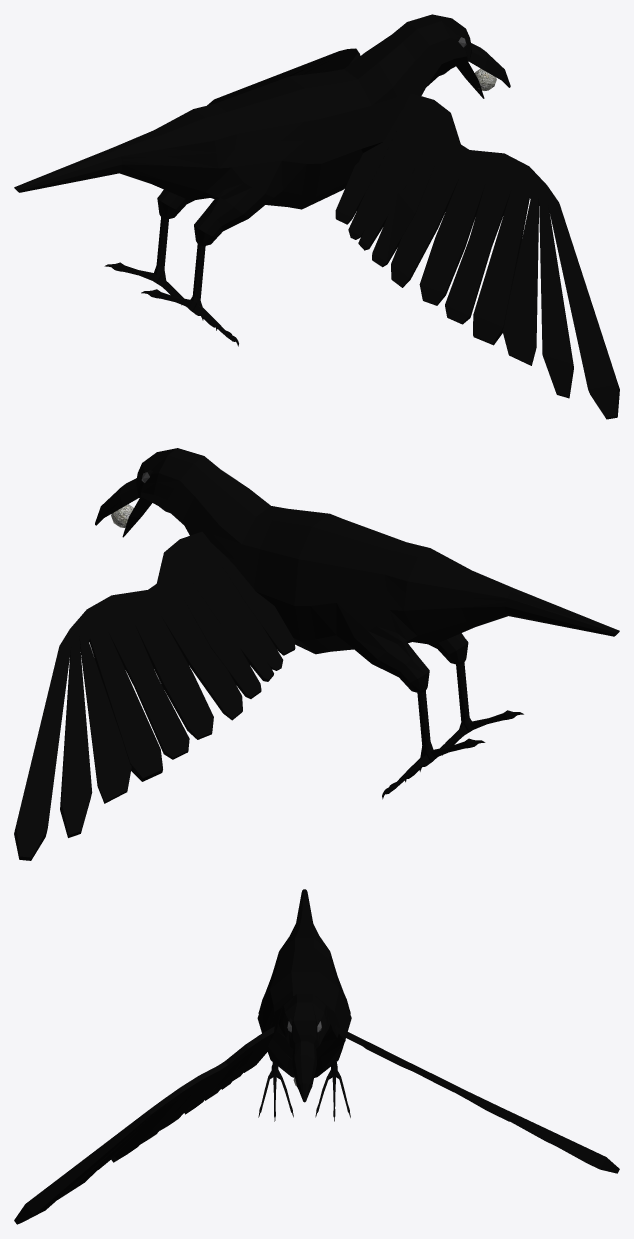
Rendered from crow_up_stone_000005.obj.
3 views of the same model, one above another, from view 1: azimuth 30°, elevation 25°; view 2: azimuth 150°, elevation 25°; view 3: azimuth 270°, elevation 25° (orthographic). The views are drawn at different scales.
Parts seen in each view (by area): view 1: Cylinder; view 2: Cylinder; view 3: Cylinder.
Boxes of the visible parts, box(x1,y1,x2,y2) form: Cylinder: box(14, 14, 619, 419); Cylinder: box(14, 448, 619, 860); Cylinder: box(14, 889, 619, 1224).
Bounding box in the file's own units: 1.62 × 0.8547 × 2.11.
